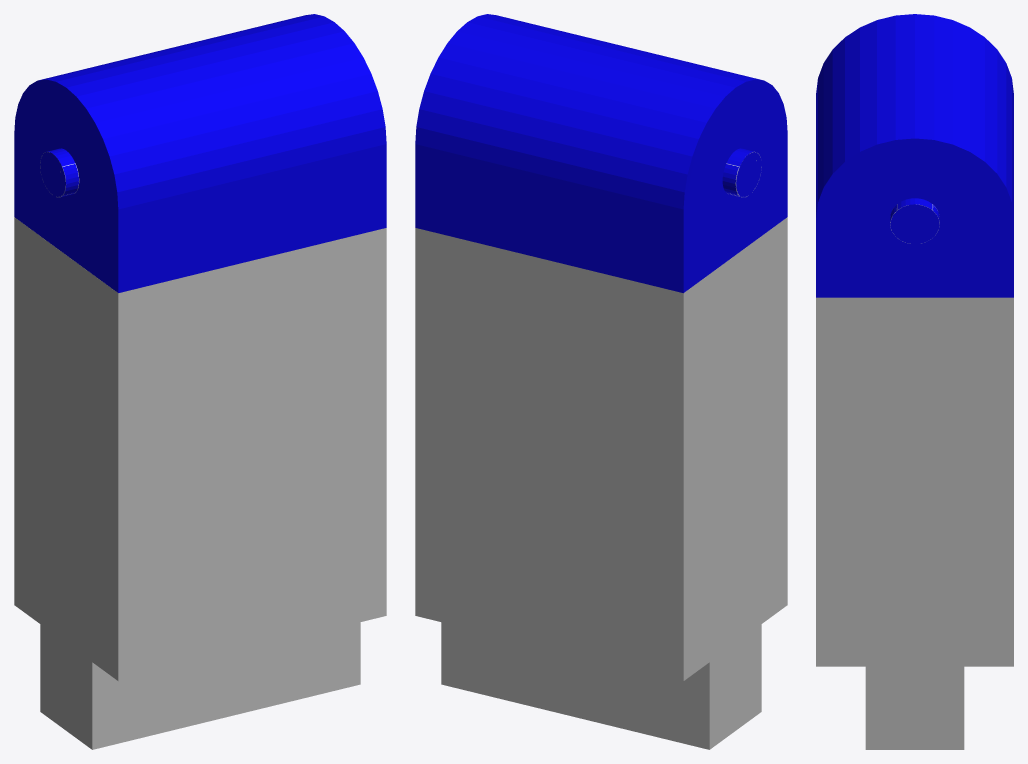
File: body_r_prox_pinvpin2.obj
The picture shows the model from 3 angles, left to right: view 1: azimuth 30°, elevation 25°; view 2: azimuth 150°, elevation 25°; view 3: azimuth 270°, elevation 25°; orthographic projection. The views are drawn at different scales.
Parts seen in each view (by area): view 1: body_r_prox_pinvpin2_Cube.569; view 2: body_r_prox_pinvpin2_Cube.569; view 3: body_r_prox_pinvpin2_Cube.569.
Part boxes in pixels (x1=…): body_r_prox_pinvpin2_Cube.569: x1=14, y1=14, x2=386, y2=749; body_r_prox_pinvpin2_Cube.569: x1=415, y1=14, x2=787, y2=749; body_r_prox_pinvpin2_Cube.569: x1=816, y1=14, x2=1013, y2=749.
Size of the model in its own units: 0.0352 by 0.0733 by 0.0215.
